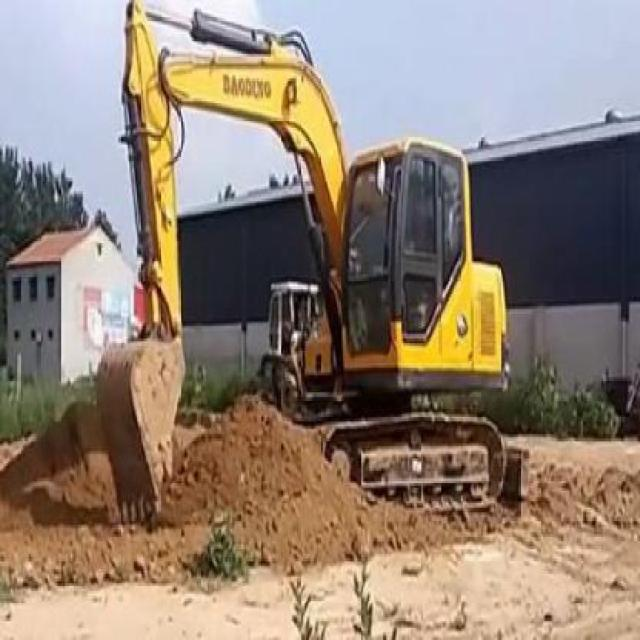excavator: (94, 1, 511, 527)
